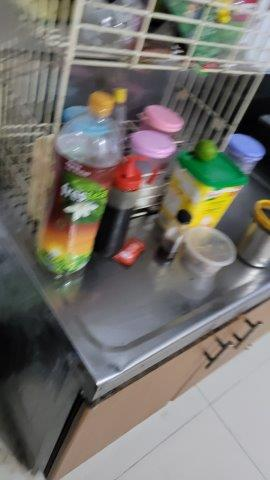botolplastik: (35, 90, 121, 280)
